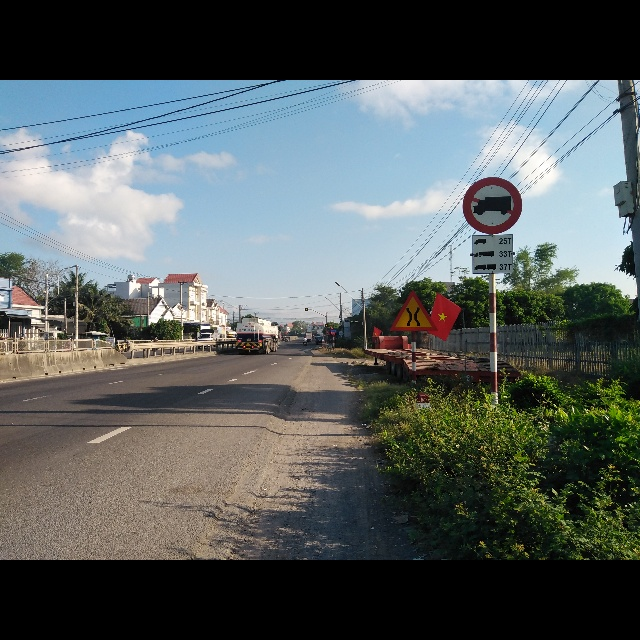Cấm xe tải: (461, 176, 523, 235)
Cầu hẹp: (391, 289, 436, 330)
